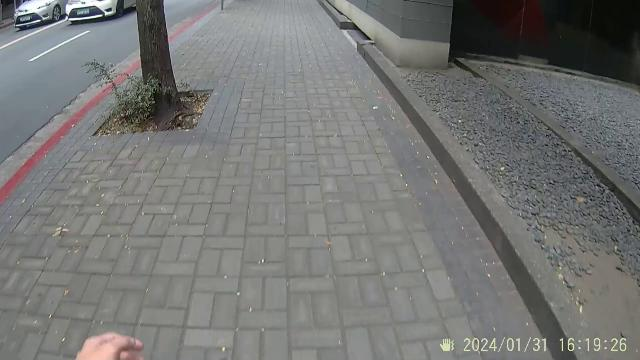tree: (130, 0, 180, 120)
